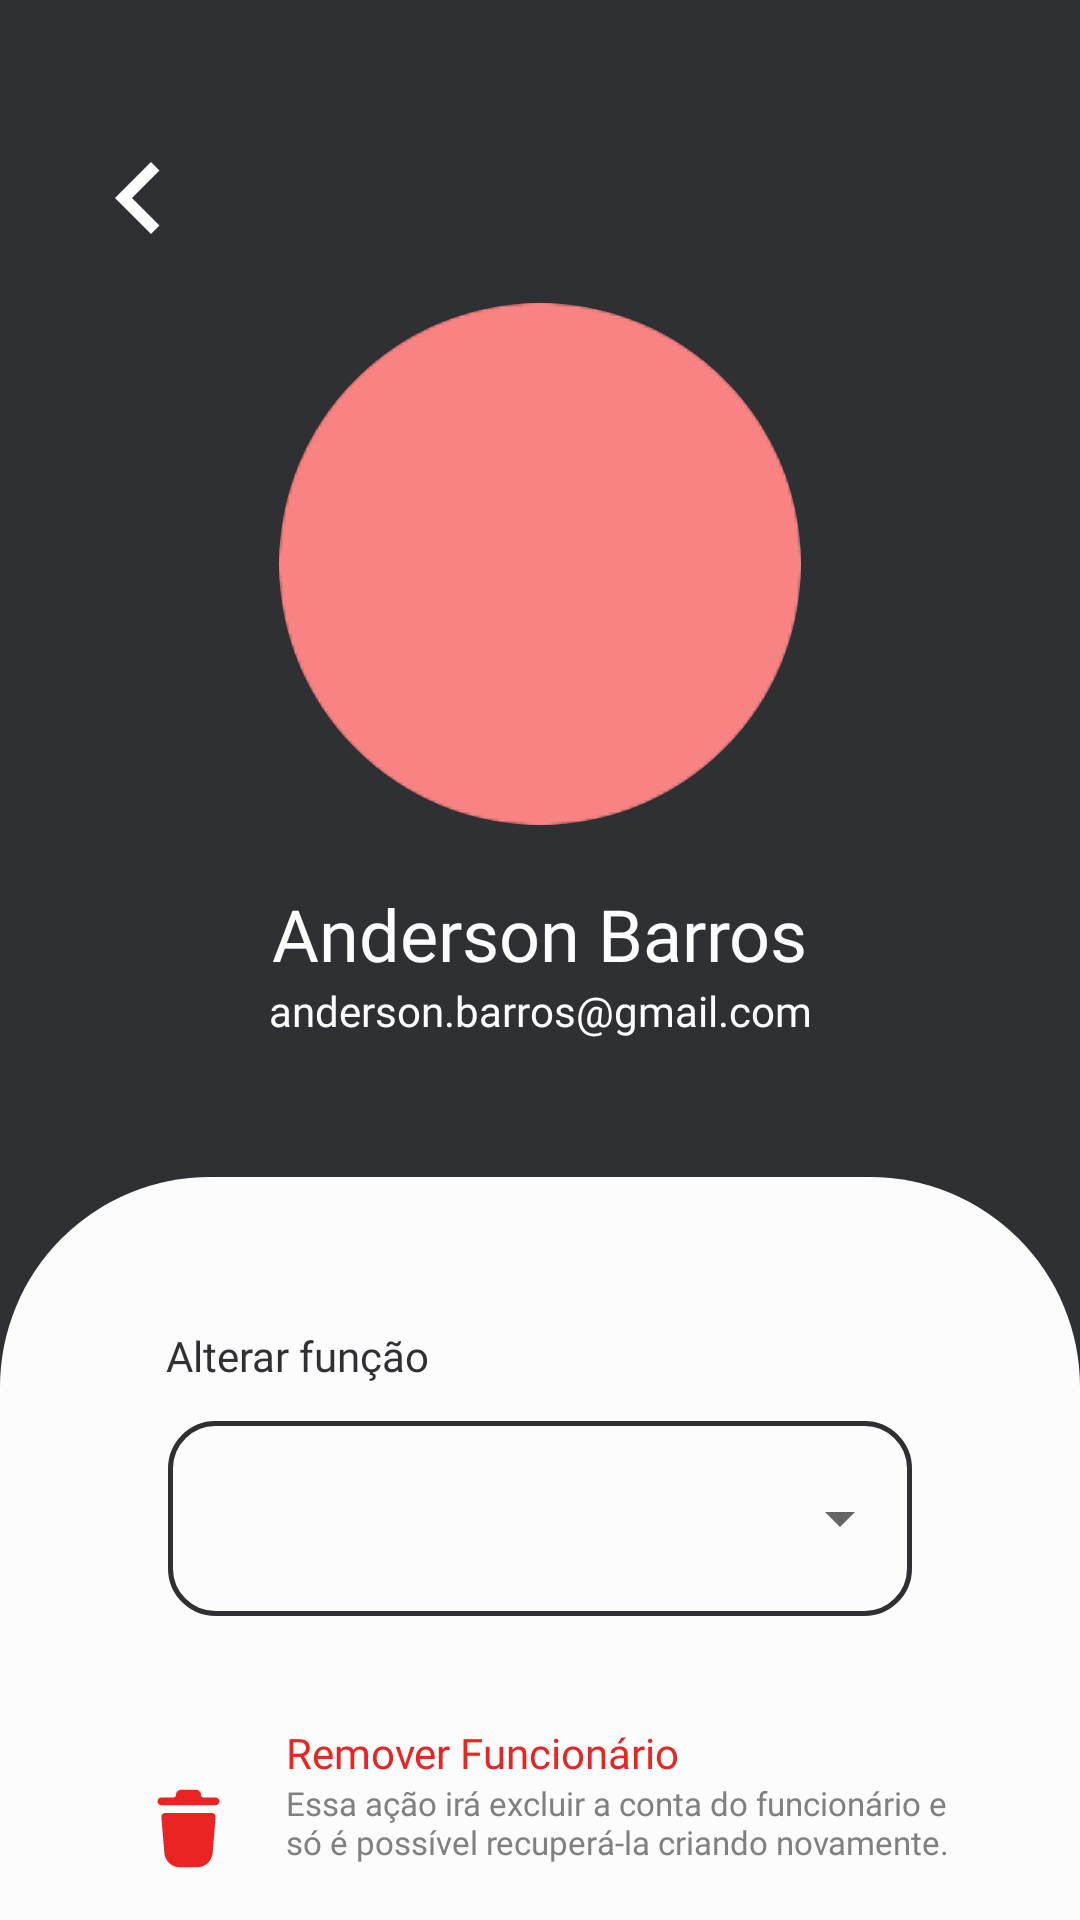

Point at icon controls on the screen. Image size 1080 × 1920, points as point (x, y).
lixeira: point (188, 1828)
seta branca: point (137, 198)
